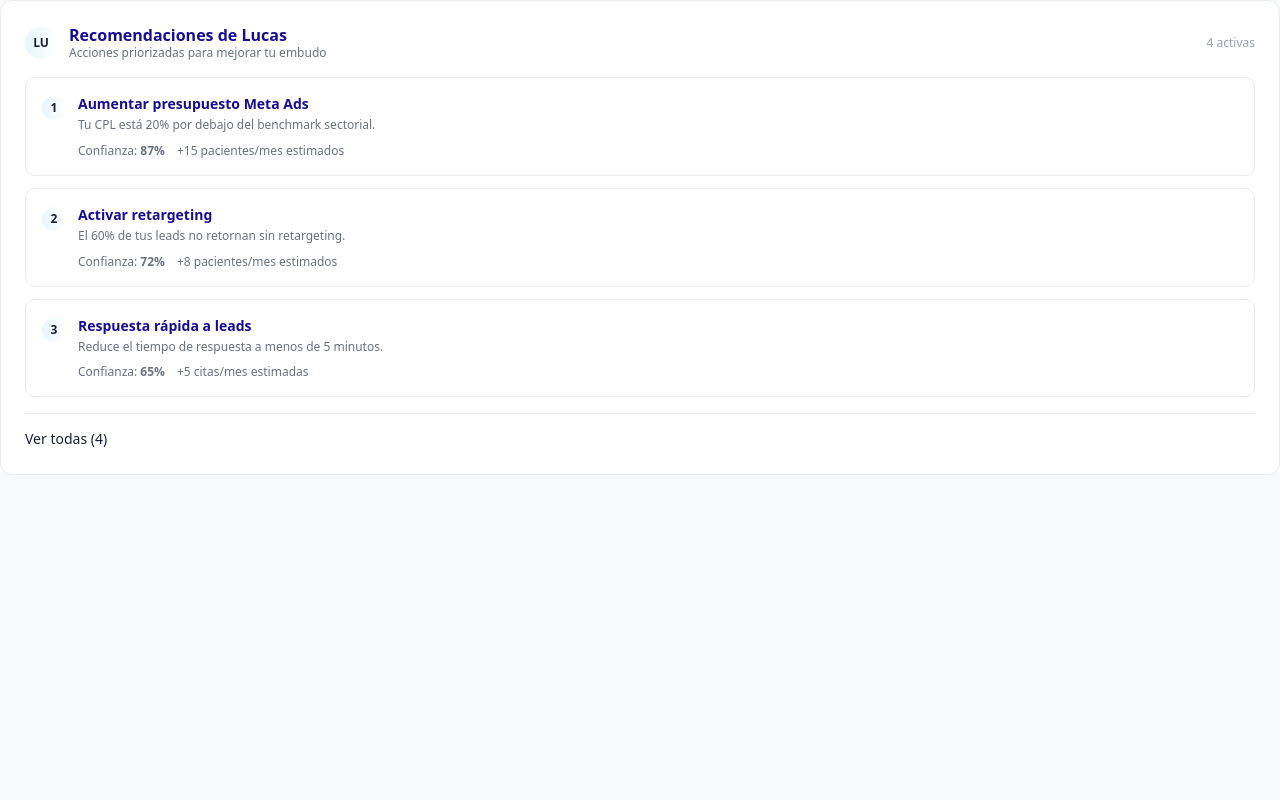
LucasStageRecommendationsCard › test_expand_shows_all — clicking 'Ver todas' shows all recommendations
Expected: the text "Reducir ausencias con recordatorios" is not shown
Click expand button (text includes count: "Ver todas (4)")
Click the button "Ver todas (4)" at (66, 439), box [25,429,107,449]
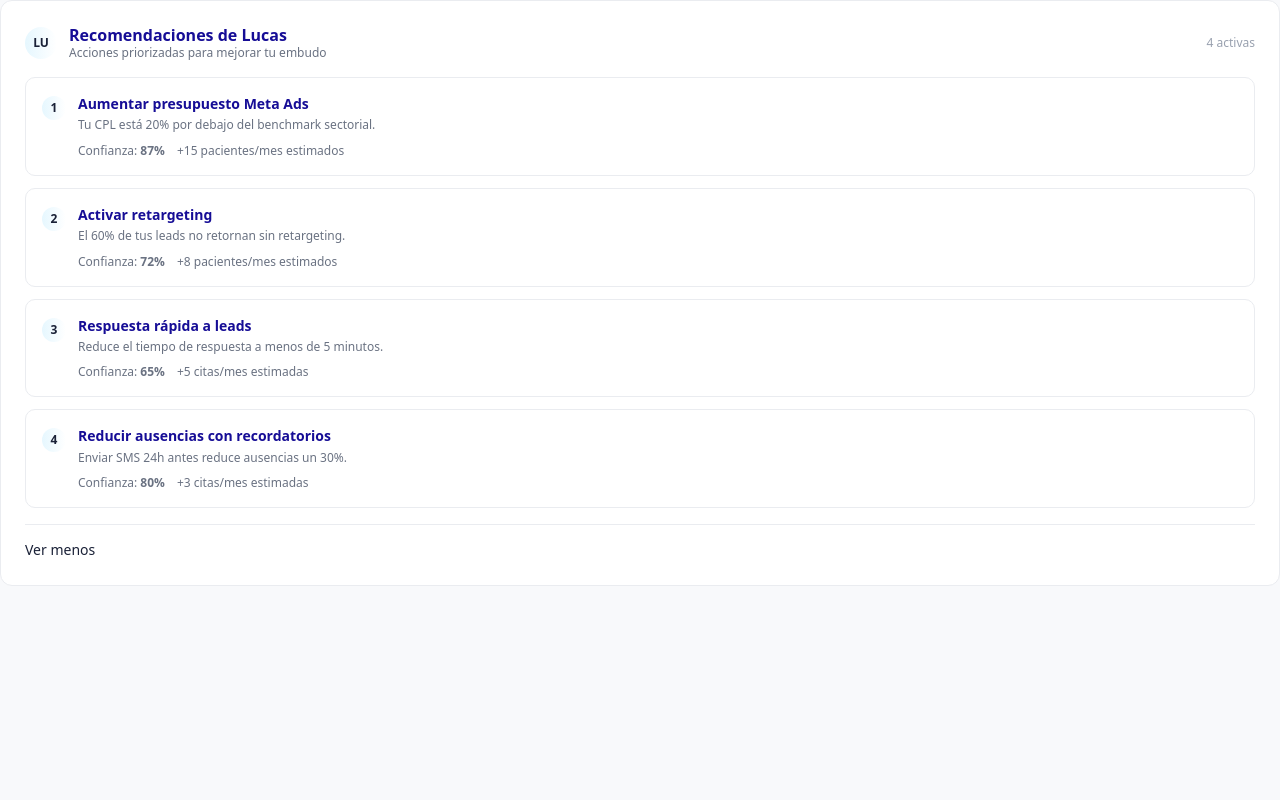
Expected: the text "Reducir ausencias con recordatorios" is shown, [78,426,331,445]
